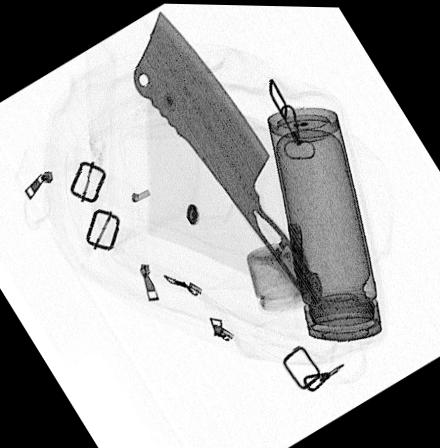Knife: (132, 9, 324, 310)
